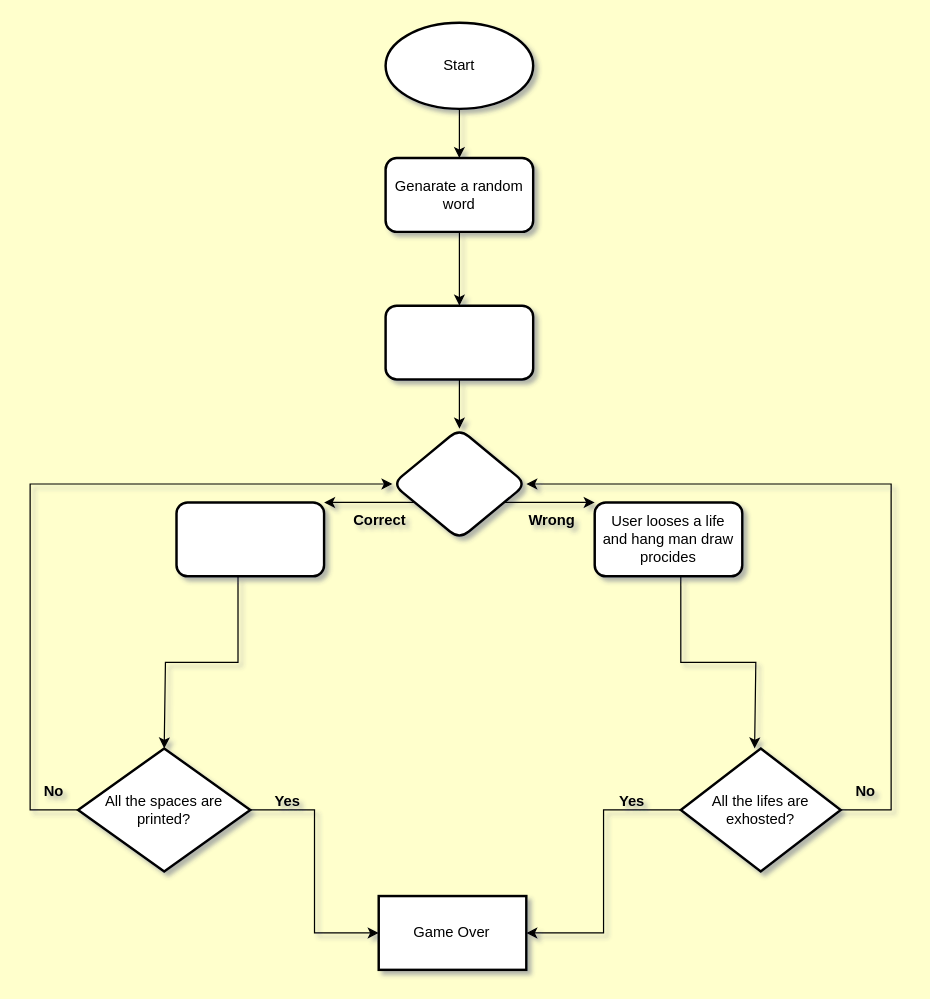
This 930x999 diagram has some shape labels left out. The centre of each missing label's shape, as x and y in pixels:
"Ask the user to guess a letter" goes at point (459, 483).
"Genarate as many blank spaces as in the word" goes at point (459, 342).
"print the letter in respective blank space" goes at point (250, 539).
